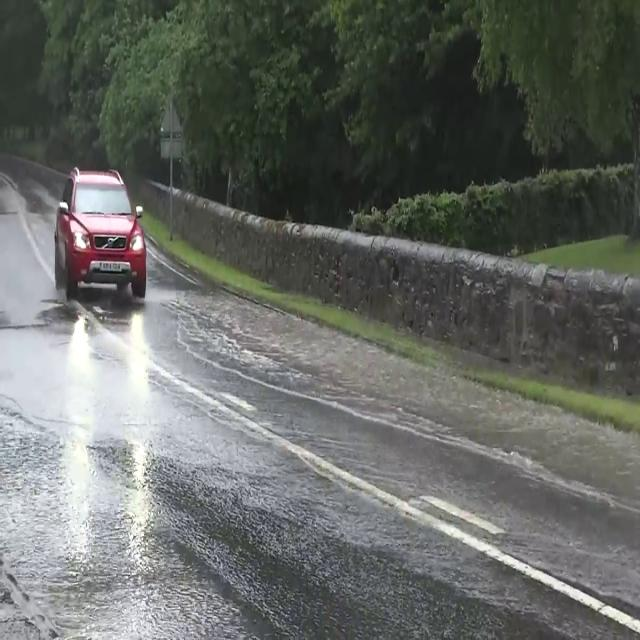license-plate-annotation: (96, 258, 128, 278)
